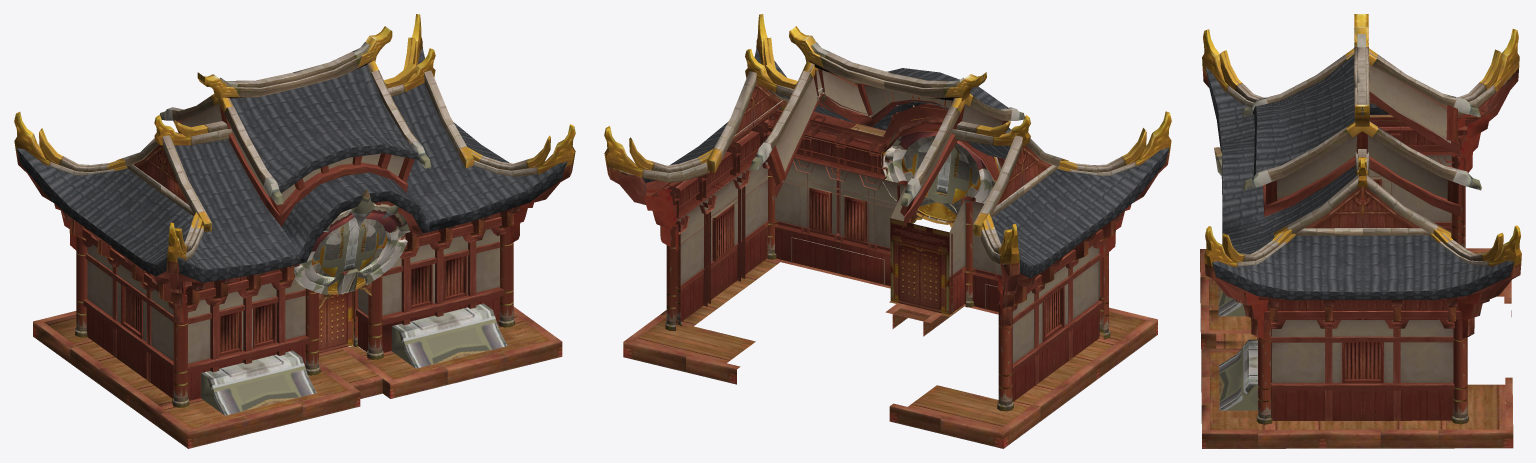
File: City_bujian_02.fbx
3 renders of one model, left to right at view 1: azimuth 30°, elevation 25°; view 2: azimuth 150°, elevation 25°; view 3: azimuth 270°, elevation 25°, orthographic.
Parts seen in each view (by area): view 1: City_1_2017_3_7_2:City_1_2017_3_7_2:City_1_2017_3_7:CIty_3_6; view 2: City_1_2017_3_7_2:City_1_2017_3_7_2:City_1_2017_3_7:CIty_3_6; view 3: City_1_2017_3_7_2:City_1_2017_3_7_2:City_1_2017_3_7:CIty_3_6.
Part boxes in pixels (x1,y1,x2,y2): City_1_2017_3_7_2:City_1_2017_3_7_2:City_1_2017_3_7:CIty_3_6: (14,14,575,448); City_1_2017_3_7_2:City_1_2017_3_7_2:City_1_2017_3_7:CIty_3_6: (604,14,1171,448); City_1_2017_3_7_2:City_1_2017_3_7_2:City_1_2017_3_7:CIty_3_6: (1200,14,1521,448).
Bounding box in the file's own units: 14.21 × 9.7 × 9.56.
